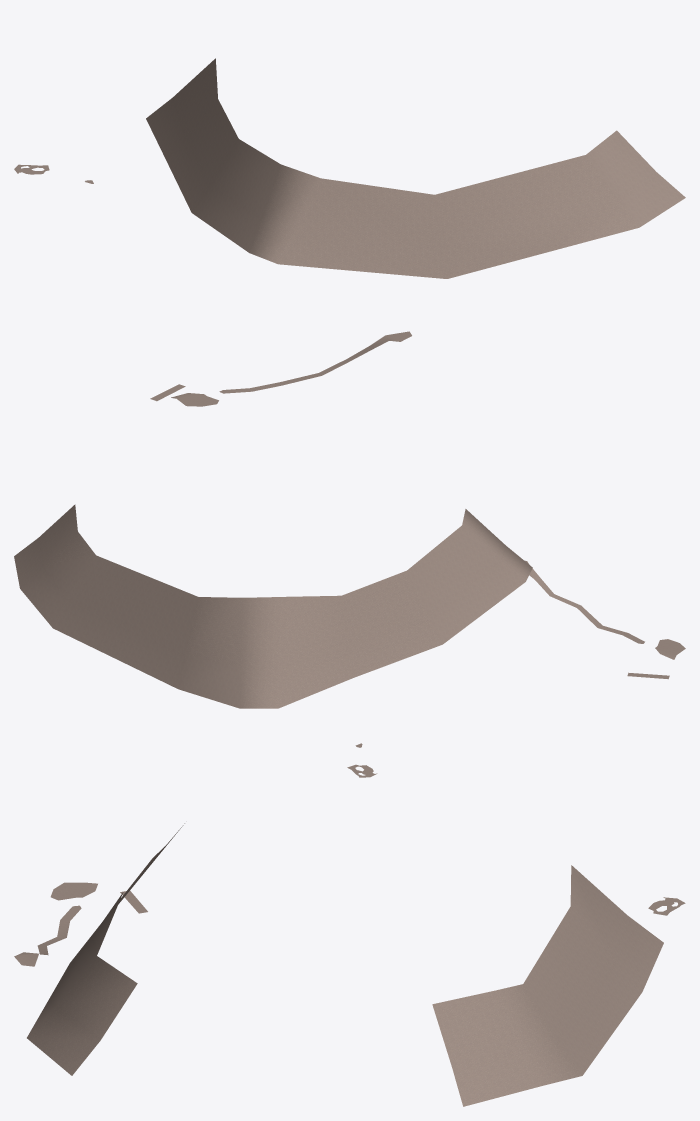
File: kd_stage_1364a3_7_14.glb
3 renders of one model, top to bottom at view 1: azimuth 30°, elevation 25°; view 2: azimuth 150°, elevation 25°; view 3: azimuth 270°, elevation 25°, orthographic. The views are drawn at different scales.
Visible parts, largest first — view 1: kd_stage_1364a3_7_14; view 2: kd_stage_1364a3_7_14; view 3: kd_stage_1364a3_7_14.
Part boxes in pixels (x1,y1,x2,y2): kd_stage_1364a3_7_14: [14, 58, 685, 406]; kd_stage_1364a3_7_14: [14, 504, 685, 777]; kd_stage_1364a3_7_14: [14, 823, 685, 1106].
Size of the model in its own units: 331 by 87.4 by 284.
Materials: 1 (1 with a texture image).
